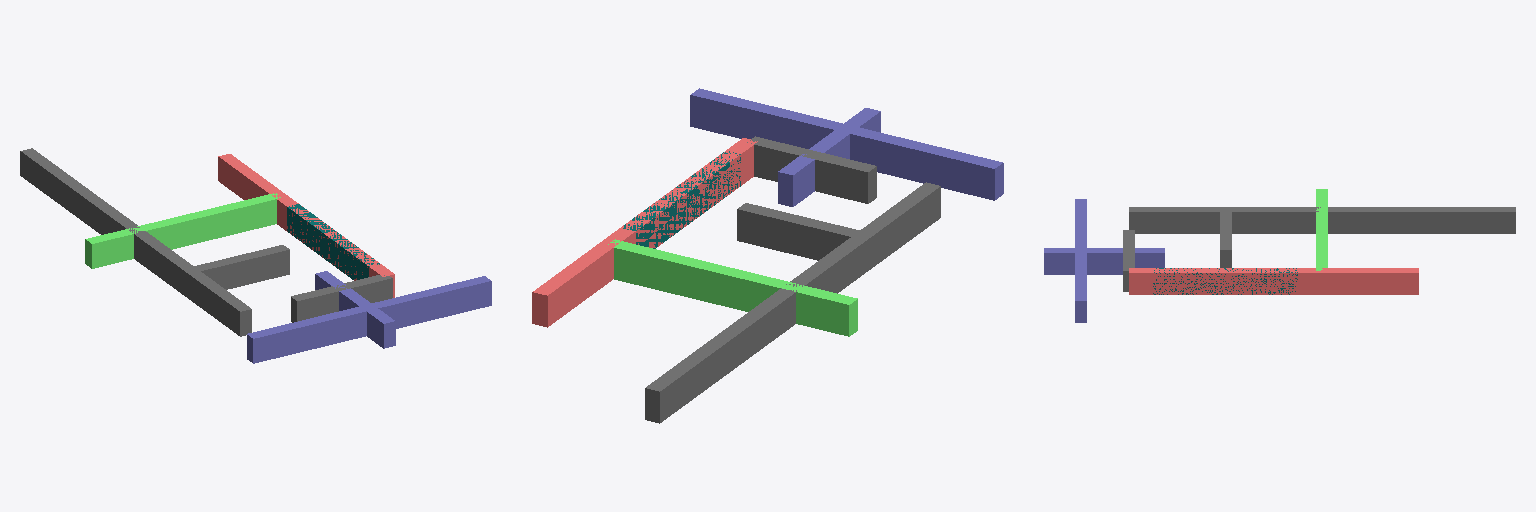
URDF robot description (zigzag_maze):
<?xml version="1.0" ?>
<robot name="zigzag_maze">
  <!-- Wall Segment 1 -->
  <link name="wall1">
    <inertial>
      <mass value="1000"/>
      <inertia ixx="1" ixy="0" ixz="0" iyy="1" iyz="0" izz="1"/>
    </inertial>
    <visual>
      <geometry>
        <box size="0.25 6 0.5"/> <!-- Width 0.25m, Length 10m, Height 0.5m -->
      </geometry>
      <material name="grey">
        <color rgba="1.0 0.5 0.5 1.0"/>
      </material>
    </visual>
    <collision>
      <geometry>
        <box size="0.25 6 0.5"/>
      </geometry>
    </collision>
  </link>

  <!-- Wall Segment 2 -->
  <link name="wall2">
    <inertial>
      <mass value="1000"/>
      <inertia ixx="1" ixy="0" ixz="0" iyy="1" iyz="0" izz="1"/>
    </inertial>
    <visual>
      <geometry>
        <box size="0.25 4 0.5"/> <!-- Width 0.25m, Length 2m, Height 0.5m -->
      </geometry>
      <material name="grey">
        <color rgba="0.5 1.0 0.5 1.0"/>
      </material>
    </visual>
    <collision>
      <geometry>
        <box size="0.25 4 0.5"/>
      </geometry>
    </collision>
  </link>
  <joint name="joint2" type="fixed">
    <parent link="wall1"/>
    <child link="wall2"/>
    <origin xyz="-2 1 0" rpy="0 0 1.5708"/> <!-- 90 degrees rotation -->
  </joint>

  <!-- Wall Segment 3 -->
  <link name="wall3">
    <inertial>
      <mass value="1000"/>
      <inertia ixx="1" ixy="0" ixz="0" iyy="1" iyz="0" izz="1"/>
    </inertial>
    <visual>
      <geometry>
        <box size="0.25 8 0.5"/> <!-- Width 0.25m, Length 10m, Height 0.5m -->
      </geometry>
      <material name="grey">
        <color rgba="0.5 0.5 0.5 1.0"/>
      </material>
    </visual>
    <collision>
      <geometry>
        <box size="0.25 8 0.5"/>
      </geometry>
    </collision>
  </link>
  <joint name="joint3" type="fixed">
    <parent link="wall2"/>
    <child link="wall3"/>
    <origin xyz="0 1 0" rpy="0 0 -1.5708"/> <!-- Changed position to (0, 6, 0) -->
  </joint>

  <!-- Wall Segment 4 -->
  <link name="wall4">
    <inertial>
      <mass value="1000"/>
      <inertia ixx="1" ixy="0" ixz="0" iyy="1" iyz="0" izz="1"/>
    </inertial>
    <visual>
      <geometry>
        <box size="0.25 2 0.5"/> <!-- Width 0.25m, Length 2m, Height 0.5m -->
      </geometry>
      <material name="grey">
        <color rgba="0.5 0.5 0.5 1.0"/>
      </material>
    </visual>
    <collision>
      <geometry>
        <box size="0.25 2 0.5"/>
      </geometry>
    </collision>
  </link>
  <joint name="joint4" type="fixed">
    <parent link="wall3"/>
    <child link="wall4"/>
    <origin xyz="1 -2 0" rpy="0 0 1.5708"/> <!-- 90 degrees rotation -->
  </joint>

  <!-- Wall Segment 5 -->
  <link name="wall5">
    <inertial>
      <mass value="1000"/>
      <inertia ixx="1" ixy="0" ixz="0" iyy="1" iyz="0" izz="1"/>
    </inertial>
    <visual>
      <geometry>
        <box size="0.25 3 0.5"/> <!-- Width 0.25m, Length 10m, Height 0.5m -->
      </geometry>
      <material name="grey">
        <color rgba="0.1 0.5 0.5 1.0"/>
      </material>
    </visual>
    <collision>
      <geometry>
        <box size="0.25 3 0.5"/>
      </geometry>
    </collision>
  </link>
  <joint name="joint5" type="fixed">
    <parent link="wall4"/>
    <child link="wall5"/>
    <origin xyz="0 -2 0" rpy="0 0 -1.5708"/> <!-- -90 degrees rotation -->
  </joint>

  <!-- Wall Segment 6 -->
  <link name="wall6">
    <inertial>
      <mass value="1000"/>
      <inertia ixx="1" ixy="0" ixz="0" iyy="1" iyz="0" izz="1"/>
    </inertial>
    <visual>
      <geometry>
        <box size="0.25 2 0.5"/> <!-- Width 0.25m, Length 2m, Height 0.5m -->
      </geometry>
      <material name="grey">
        <color rgba="0.5 0.5 0.5 1.0"/>
      </material>
    </visual>
    <collision>
      <geometry>
        <box size="0.25 2 0.5"/>
      </geometry>
    </collision>
  </link>
  <joint name="joint6" type="fixed">
    <parent link="wall5"/>
    <child link="wall6"/>
    <origin xyz="-1 -2 0" rpy="0 0 1.5708"/> <!-- 90 degrees rotation -->
  </joint>

  <!-- Wall Segment 7 -->
  <link name="wall7">
    <inertial>
      <mass value="1000"/>
      <inertia ixx="1" ixy="0" ixz="0" iyy="1" iyz="0" izz="1"/>
    </inertial>
    <visual>
      <geometry>
        <box size="0.25 2.5 0.5"/> <!-- Width 0.25m, Length 10m, Height 0.5m -->
      </geometry>
      <material name="grey">
        <color rgba="0.5 0.5 0.8 1.0"/>
      </material>
    </visual>
    <collision>
      <geometry>
        <box size="0.25 2.5 0.5"/>
      </geometry>
    </collision>
  </link>
  <joint name="joint7" type="fixed">
    <parent link="wall6"/>
    <child link="wall7"/>
    <origin xyz="-0.5 0 0" rpy="0 0 1.5708"/> <!-- -90 degrees rotation -->
  </joint>
  <link name="wall8">
    <inertial>
      <mass value="1000"/>
      <inertia ixx="1" ixy="0" ixz="0" iyy="1" iyz="0" izz="1"/>
    </inertial>
    <visual>
      <geometry>
        <box size="0.25 5 0.5"/> <!-- Width 0.25m, Length 10m, Height 0.5m -->
      </geometry>
      <material name="grey">
        <color rgba="0.5 0.5 0.8 1.0"/>
      </material>
    </visual>
    <collision>
      <geometry>
        <box size="0.25 5 0.5"/>
      </geometry>
    </collision>
  </link>
  <joint name="joint8" type="fixed">
    <parent link="wall7"/>
    <child link="wall8"/>
    <origin xyz="0 0.5 0" rpy="0 0 1.5708"/> <!-- -90 degrees rotation -->
  </joint>
</robot>

--- What the picture shows (computed from the rendered views, not written in the file) ---
3 views of the same robot in one strip: view 1: azimuth 30°, elevation 25°; view 2: azimuth 150°, elevation 25°; view 3: azimuth 270°, elevation 25° (orthographic).
Model zigzag_maze with 8 links and 7 joints (7 fixed), rooted at wall1, posed every joint at zero.
Visible links, largest first — view 1: wall3, wall8, wall2, wall1, wall4, wall6, wall5, wall7; view 2: wall3, wall8, wall2, wall1, wall4, wall6, wall7, wall5; view 3: wall3, wall1, wall7, wall8, wall2, wall4, wall5, wall6.
Boxes of the visible links, x1,y1,x2,y2 form: wall3: (20, 148, 251, 336); wall8: (247, 276, 491, 363); wall2: (85, 193, 280, 268); wall1: (218, 154, 394, 297); wall4: (190, 245, 289, 289); wall6: (291, 275, 392, 322); wall5: (287, 204, 379, 279); wall7: (315, 271, 395, 348); wall3: (645, 182, 940, 423); wall8: (690, 88, 1003, 200); wall2: (608, 239, 857, 336); wall1: (532, 138, 757, 327); wall4: (737, 203, 866, 260); wall6: (747, 136, 876, 203); wall7: (778, 108, 880, 206); wall5: (623, 151, 740, 248); wall3: (1129, 207, 1515, 233); wall1: (1129, 268, 1418, 294); wall7: (1044, 248, 1164, 274); wall8: (1075, 199, 1086, 322); wall2: (1316, 189, 1327, 270); wall4: (1220, 209, 1231, 267); wall5: (1153, 268, 1297, 294); wall6: (1123, 230, 1134, 291).
Bounding box of the posed robot: 5.5 × 9.75 × 0.5 m (x, y, z).
Geometry: primitives only (box / cylinder / sphere), no mesh files.